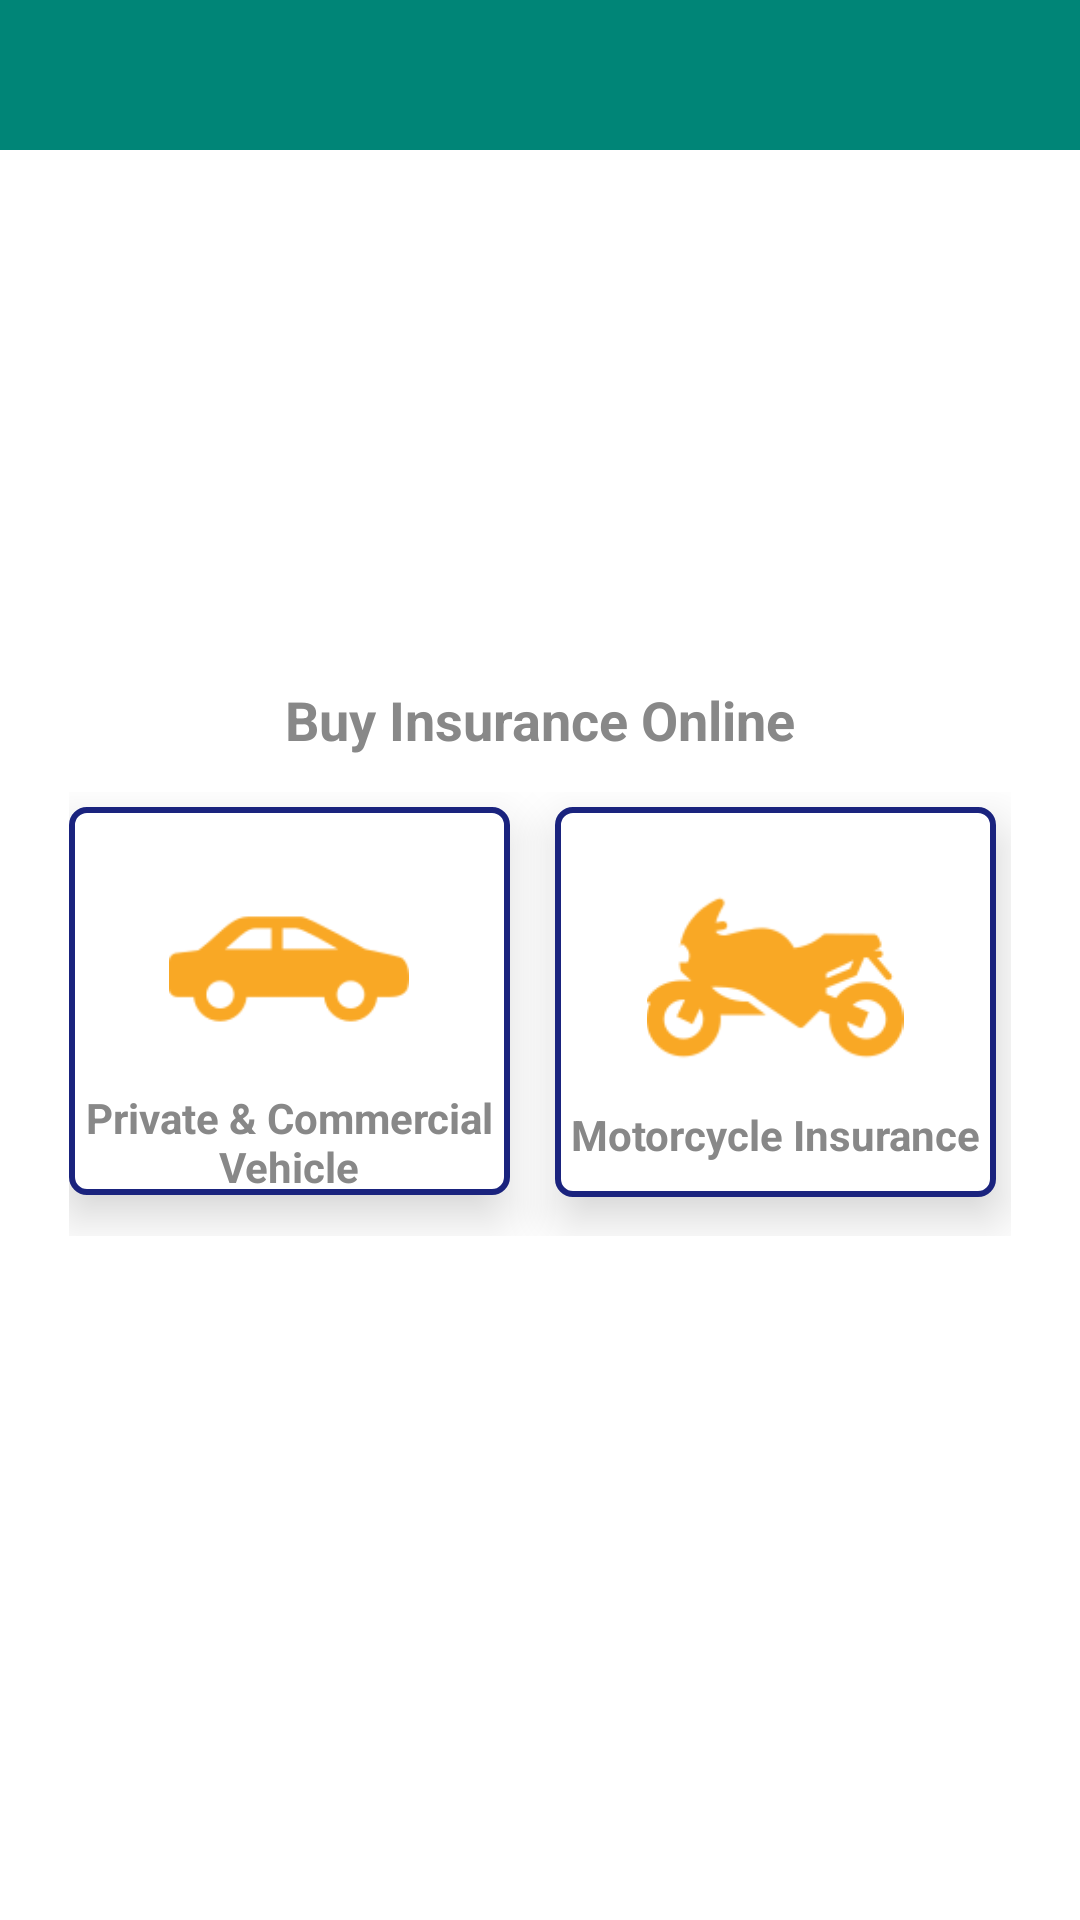

Locate icon controls on the screen. Image size 1080px×1920px, boxes as bbox=(x1, y1, x2, y2).
bike: bbox=(647, 897, 904, 1058)
car: bbox=(169, 916, 409, 1022)
